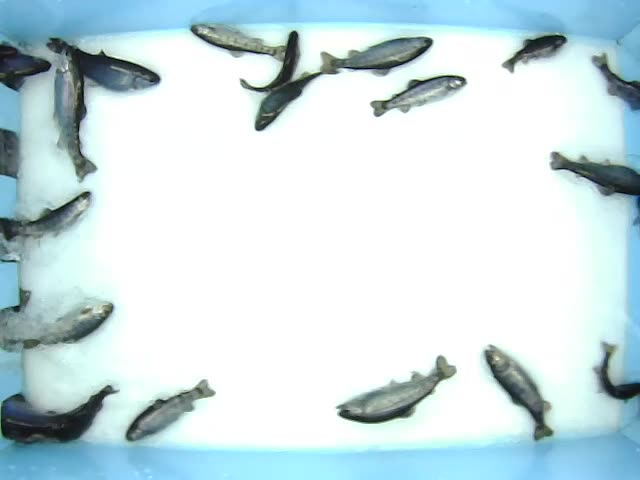fish: (336, 353, 457, 425), (482, 343, 554, 443), (45, 37, 161, 94), (53, 43, 98, 185), (254, 59, 340, 133), (124, 377, 217, 443), (21, 299, 114, 353), (1, 190, 94, 243), (319, 34, 435, 76), (370, 72, 468, 118), (239, 30, 302, 93), (189, 23, 288, 62), (501, 33, 568, 75)
